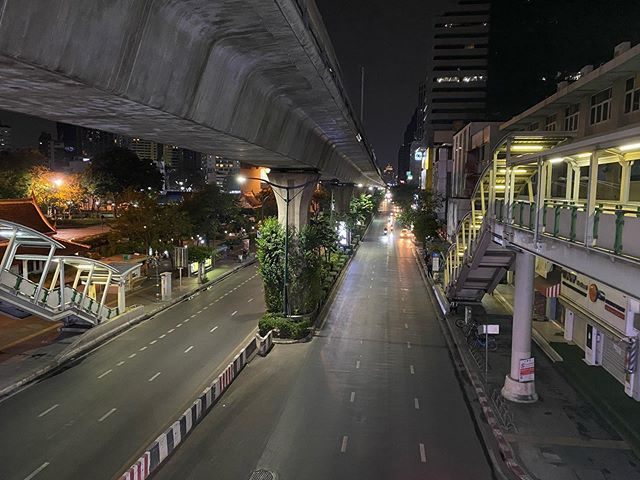building: (453, 113, 640, 480), (409, 1, 601, 171)
collumn: (254, 161, 328, 302), (328, 172, 360, 257)
street: (12, 218, 473, 475)
tree: (254, 214, 328, 319), (110, 190, 190, 265), (91, 149, 157, 214), (1, 157, 71, 207)
